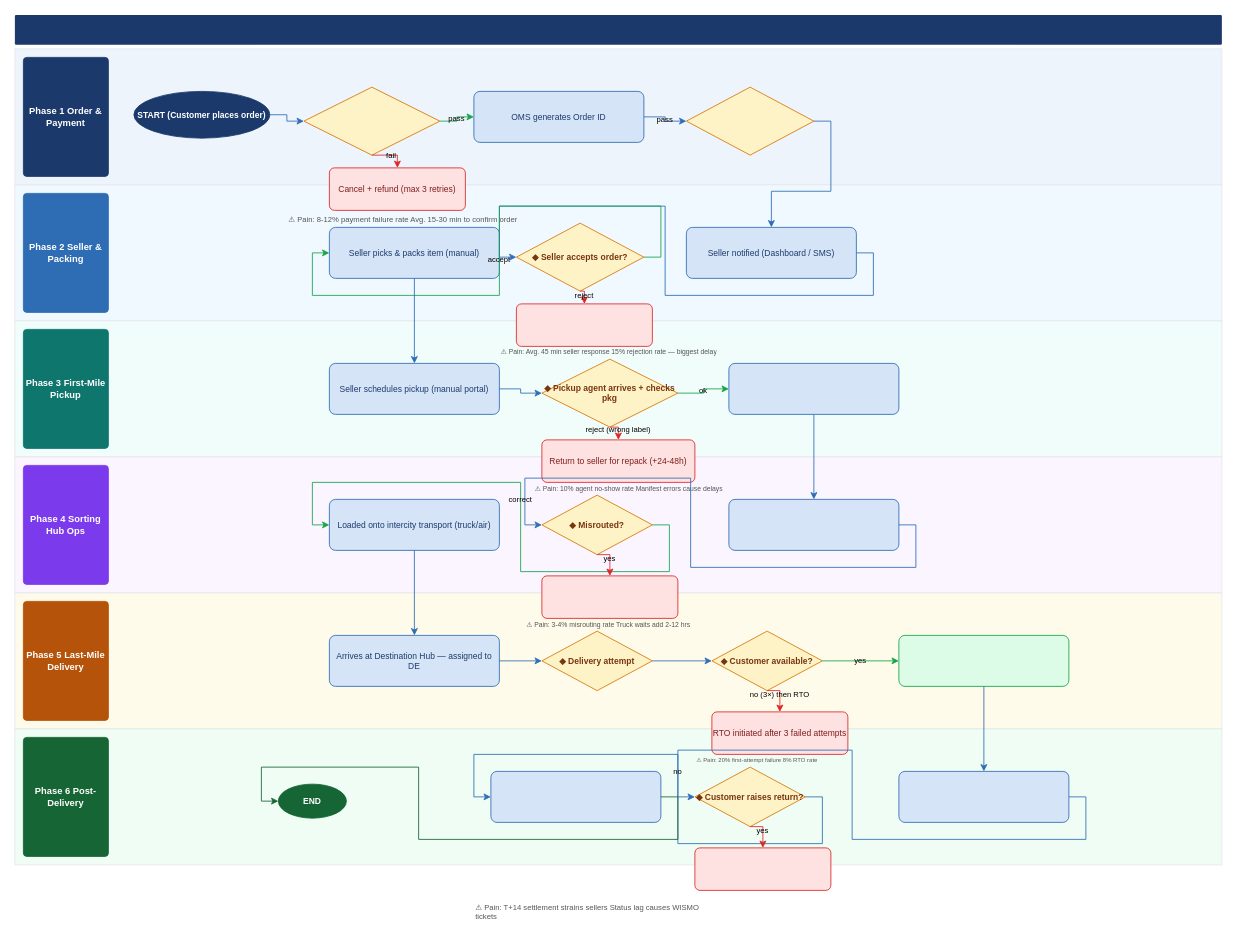
The diagram is 1237 pixels wide and 948 high, and some of its shapes have lost their labels. Here are the shapes that lost their labels. From the top down, the centre of each, then its label:
At (617,29): "AS-IS ORDER FULFILLMENT PROCESS — E-COMMERCE".
At (371,120): "◆ Payment gateway verification".
At (750,120): "◆ Inventory check in WMS".
At (584,324): "Notify customer + initiate refund".
At (813,388): "Package scanned & manifested".
At (813,524): "Arrives at Origin Sorting Hub".
At (609,596): "Re-manifest & resend (+24-48h)".
At (983,660): "Package delivered — manual signature".
At (575,796): "Seller payment settlement (T+7-T+14)".
At (983,796): "Delivery status synced to OMS (5-30 min lag)".
At (762,868): "Reverse logistics flow (5-7 days)".
